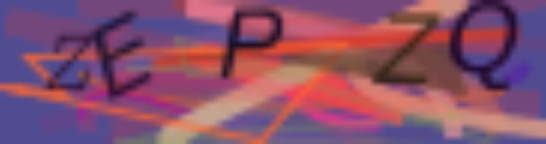E: (93, 10, 157, 103)
P: (216, 7, 291, 85)
Q: (445, 1, 523, 94)
Z: (369, 8, 441, 93), (42, 33, 95, 96)
